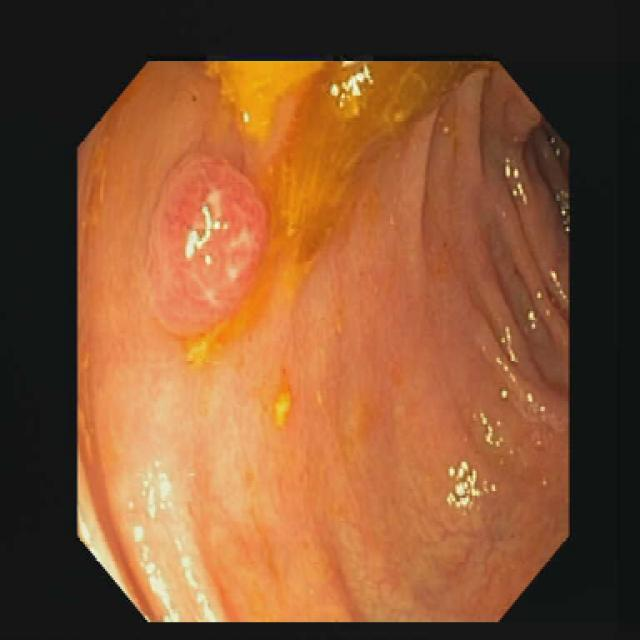tumor: (148, 151, 267, 322)
